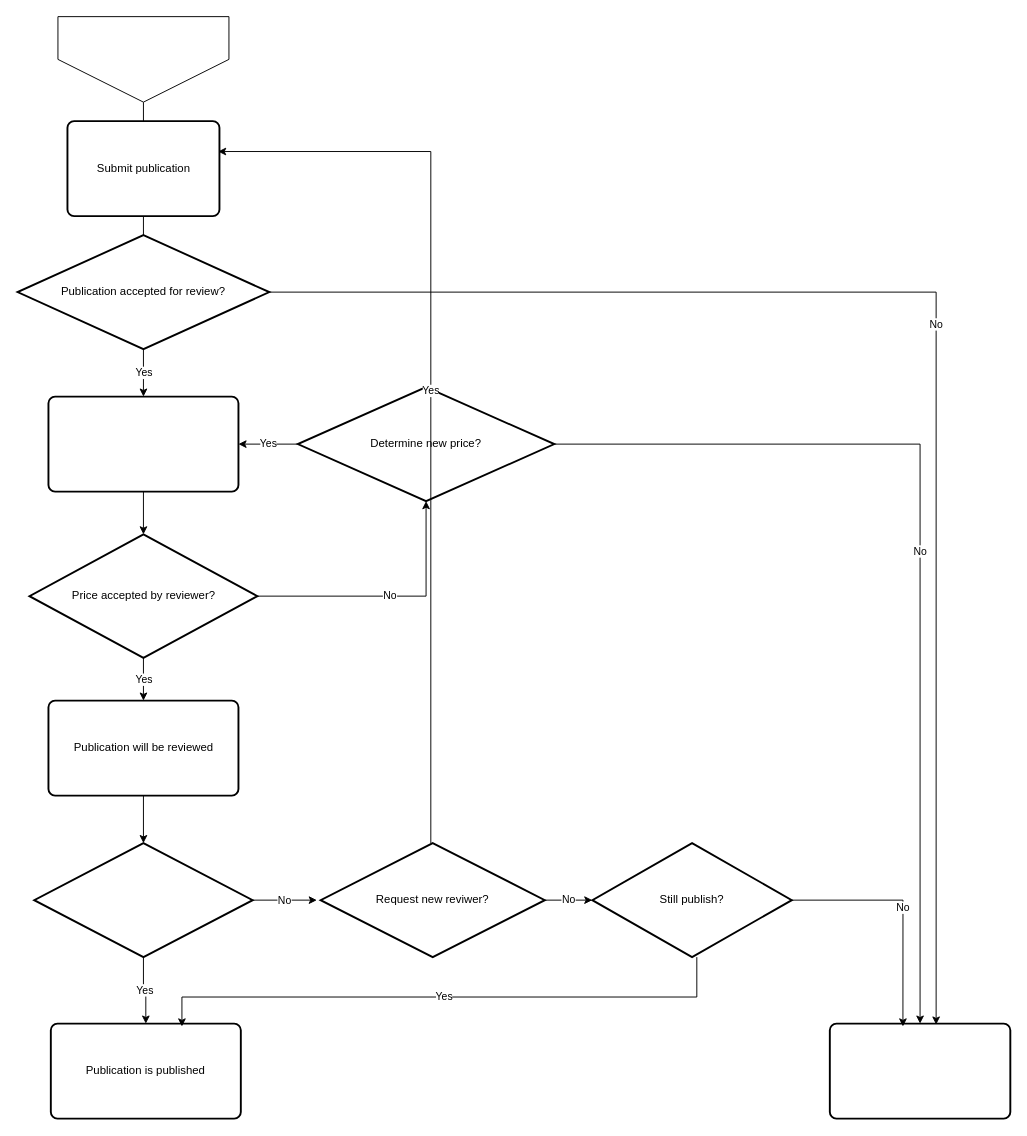
Image size: 1027x1136. Some labels were removed from this diagram. Each missing label, with the box of its shape:
Determine price: (47, 395, 239, 492)
Review accepted?: (33, 842, 253, 958)
Submitter: (57, 16, 229, 102)
Withdraw publication: (828, 1022, 1011, 1119)
